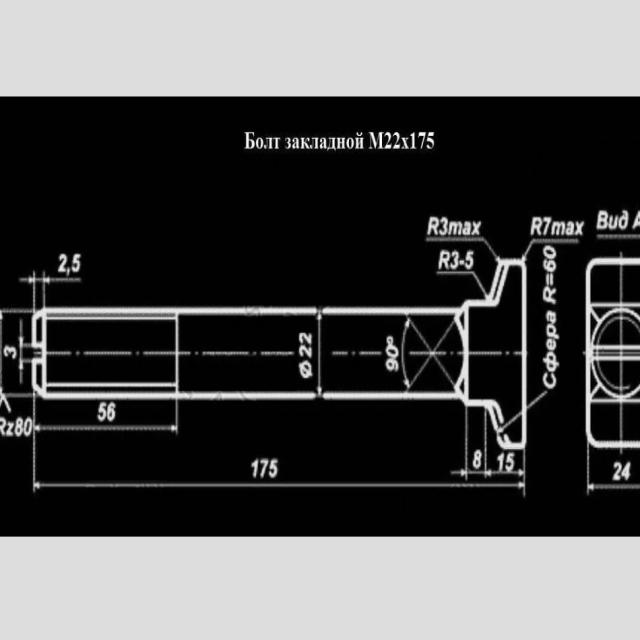marking_line: (33, 481, 525, 492), (587, 485, 640, 491)
numeric: (422, 214, 477, 235), (441, 248, 478, 271), (250, 455, 283, 478), (496, 445, 518, 475), (58, 251, 83, 275), (381, 338, 399, 370), (16, 415, 36, 440), (298, 329, 313, 359), (542, 244, 557, 272), (97, 404, 118, 422), (610, 464, 631, 480), (4, 340, 17, 361), (472, 445, 481, 470)
special_symbol: (298, 360, 312, 379)
